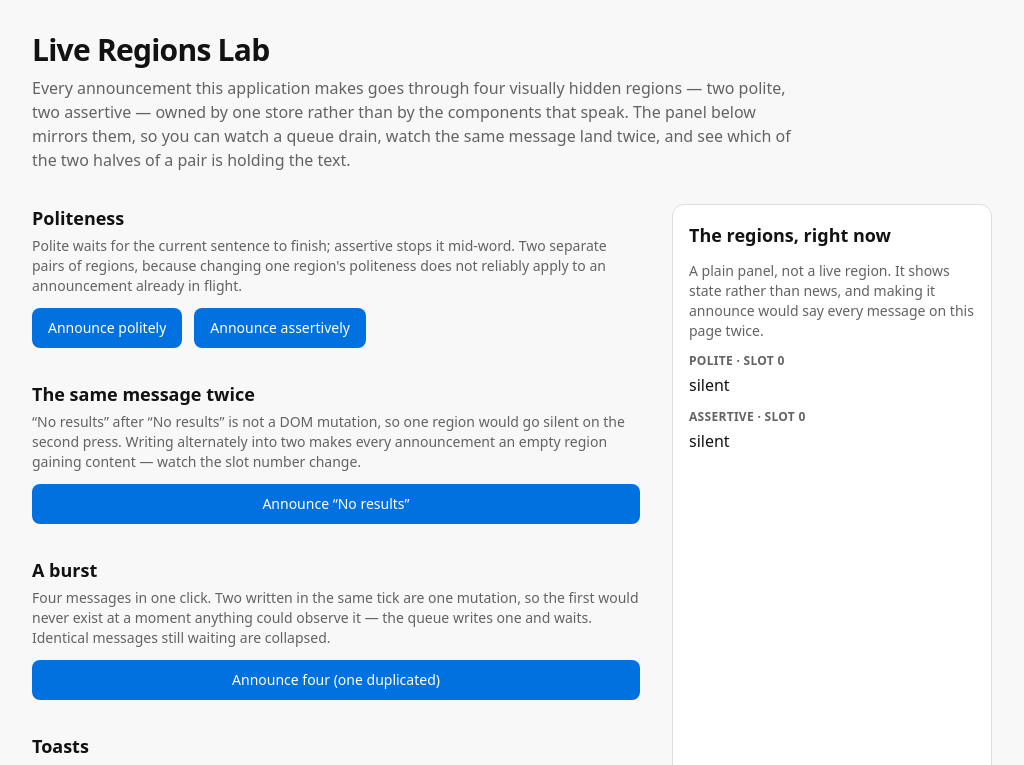
Test: <LiveRegionsLabPage> › sends a polite announcement to the polite regions only
Click the button with test id "announce-polite".
click(107, 328)  # box [32,308,182,348]
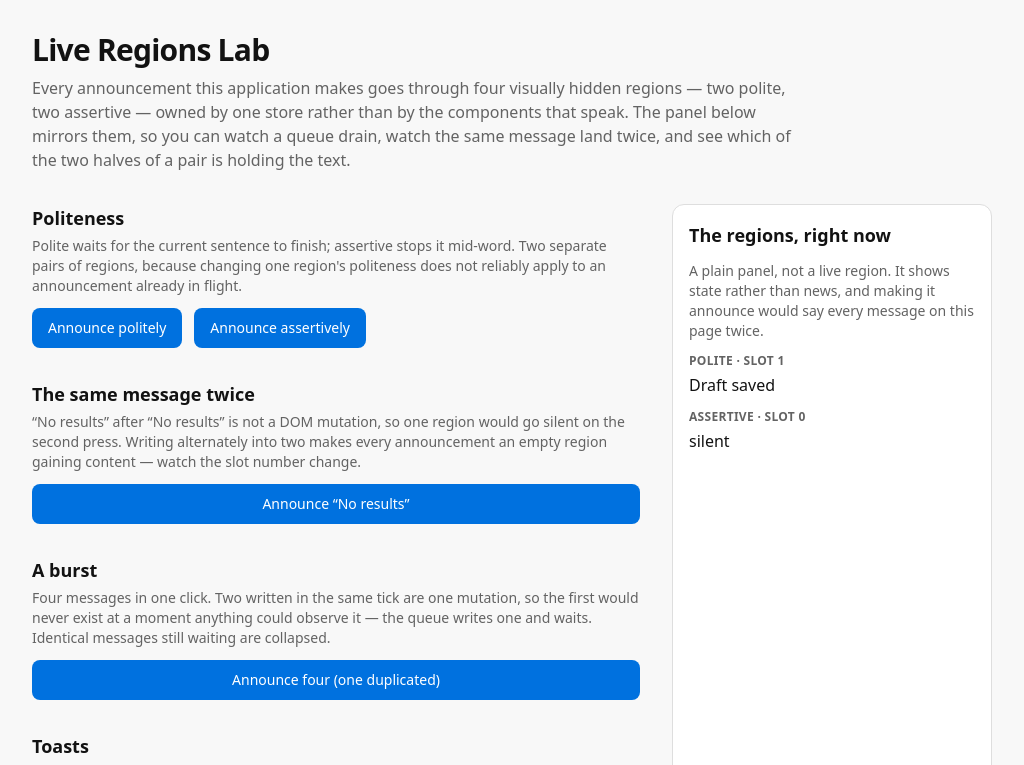
Expected: the text with test id "mirror-assertive-text" reads "silent", [689,430,730,452]
Expected: the text with test id "mirror-polite-text" reads "Draft saved", [689,374,775,396]
